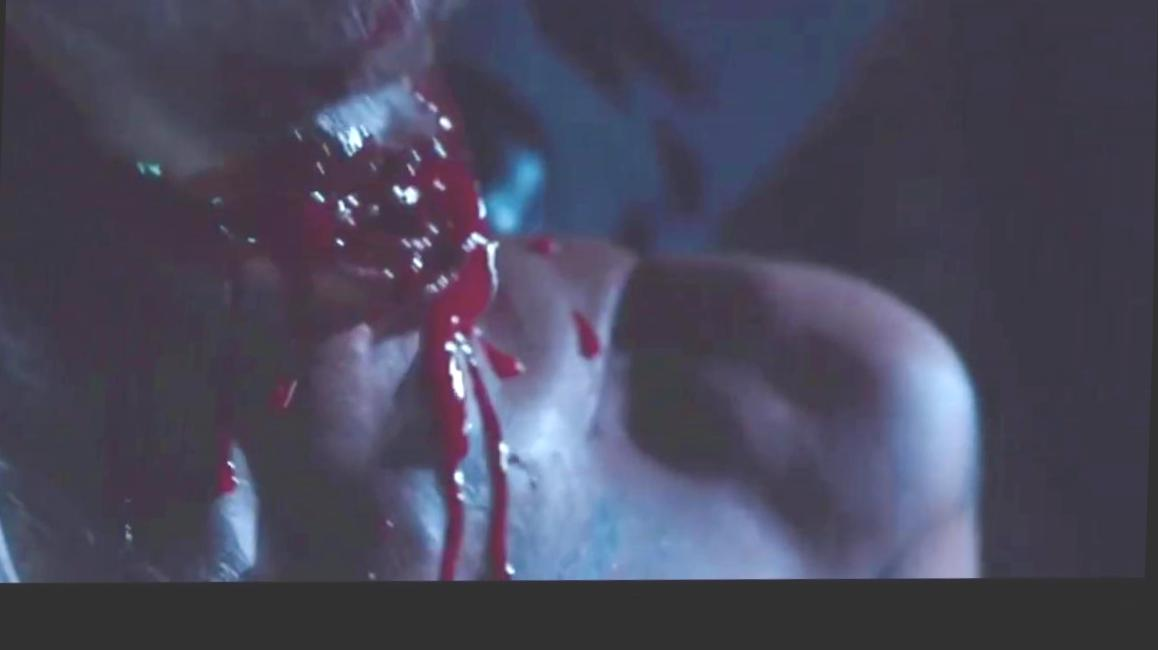Fire: (302, 131, 524, 584), (101, 161, 278, 251), (104, 422, 194, 500), (413, 73, 453, 118), (220, 372, 233, 464), (574, 318, 599, 361), (211, 435, 231, 483), (268, 385, 294, 414), (218, 464, 239, 494), (581, 327, 598, 357), (532, 238, 556, 259), (359, 571, 378, 584)
